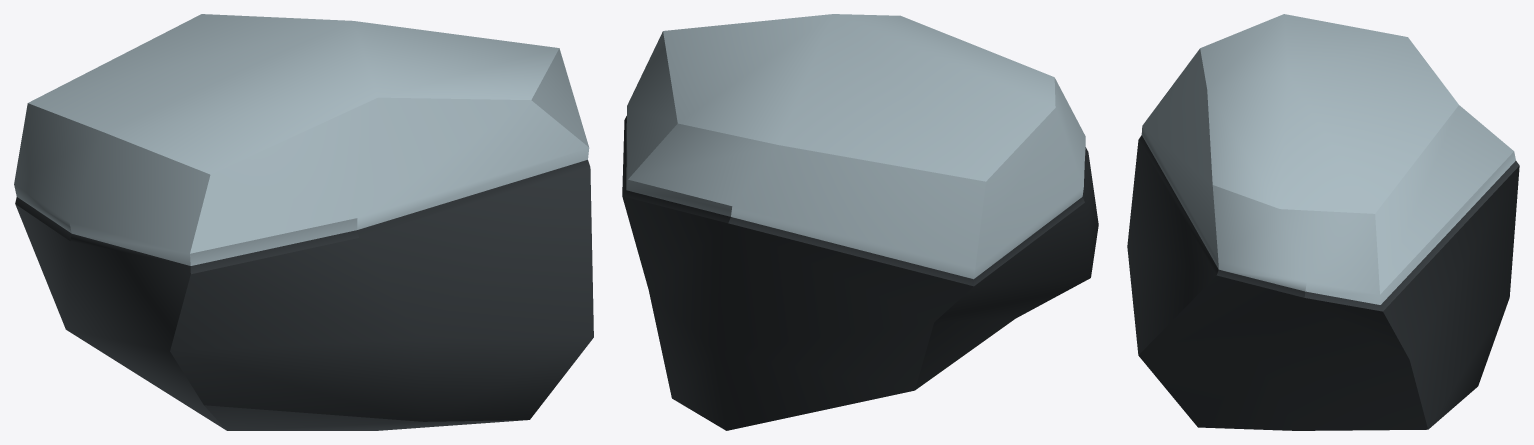
File: Geo_StoneMedium.fbx
3 renders of one model, left to right at view 1: azimuth 30°, elevation 25°; view 2: azimuth 150°, elevation 25°; view 3: azimuth 270°, elevation 25°, orthographic. The views are drawn at different scales.
Parts seen in each view (by area): view 1: StoneMedium_Mesh; view 2: StoneMedium_Mesh; view 3: StoneMedium_Mesh.
Boxes of the visible parts, box(x1,y1,x2,y2) form: StoneMedium_Mesh: box(14, 14, 593, 430); StoneMedium_Mesh: box(622, 14, 1098, 430); StoneMedium_Mesh: box(1127, 14, 1519, 430).
Bounding box in the file's own units: 160 × 121 × 131.
